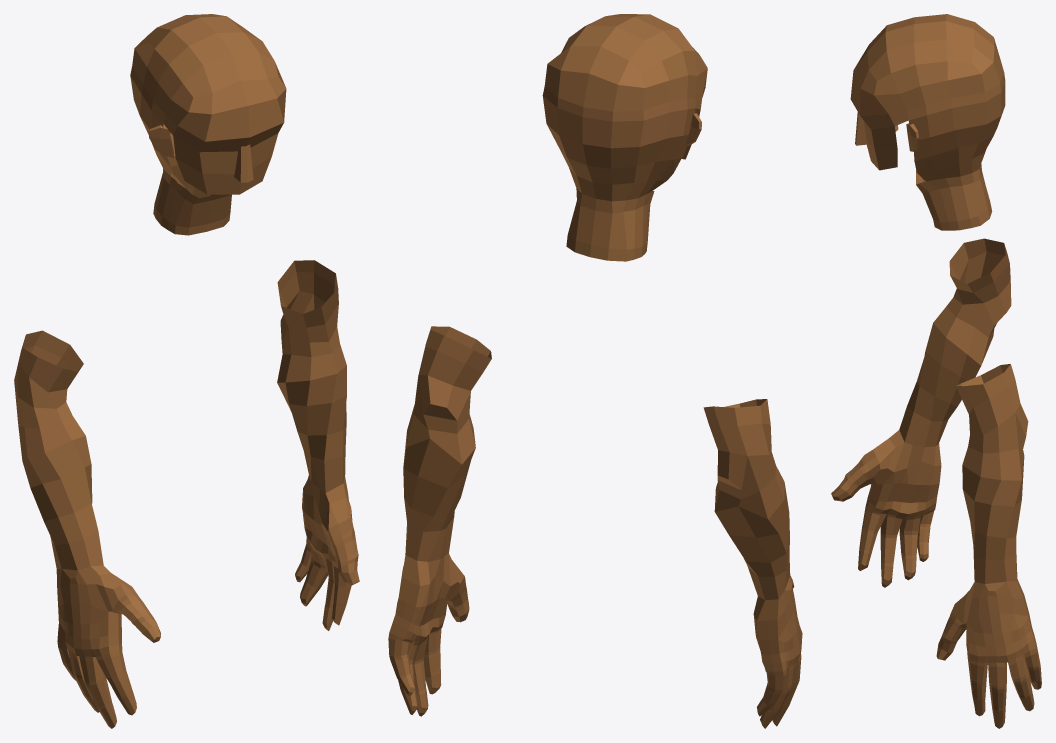
File: Skin_003.obj
3 views of the same model, side by side, from view 1: azimuth 30°, elevation 25°; view 2: azimuth 150°, elevation 25°; view 3: azimuth 270°, elevation 25° (orthographic). The views are drawn at different scales.
Size of the model in its own units: 0.5506 by 1.04 by 0.3112.
